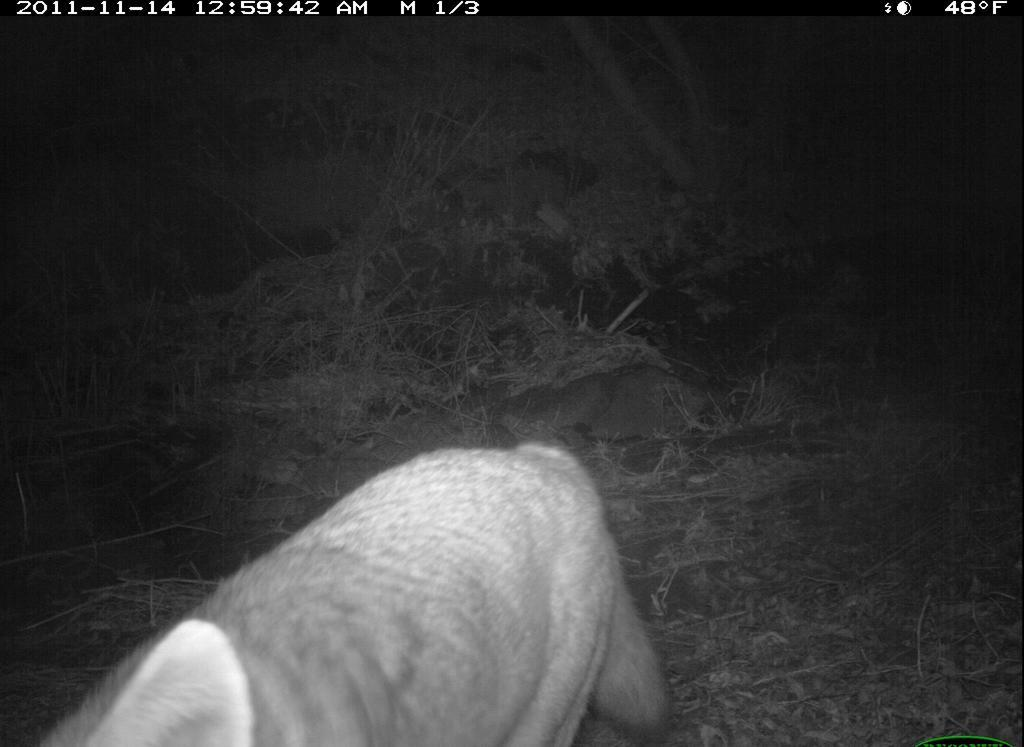coyote: (9, 401, 717, 744)
